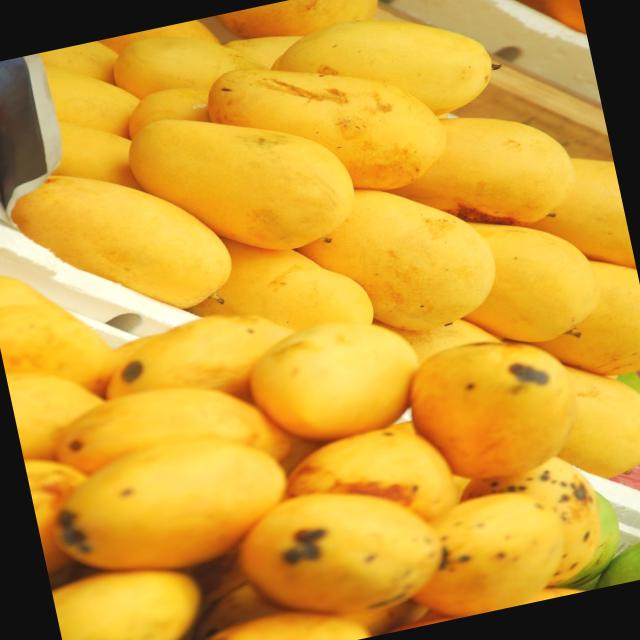mango: (210, 28, 458, 228), (115, 89, 364, 281), (3, 141, 239, 339), (42, 420, 298, 590), (287, 168, 502, 346), (231, 470, 448, 634), (49, 364, 290, 504), (373, 93, 582, 250), (400, 325, 591, 496), (241, 307, 431, 452), (395, 479, 576, 626), (438, 202, 604, 348)
